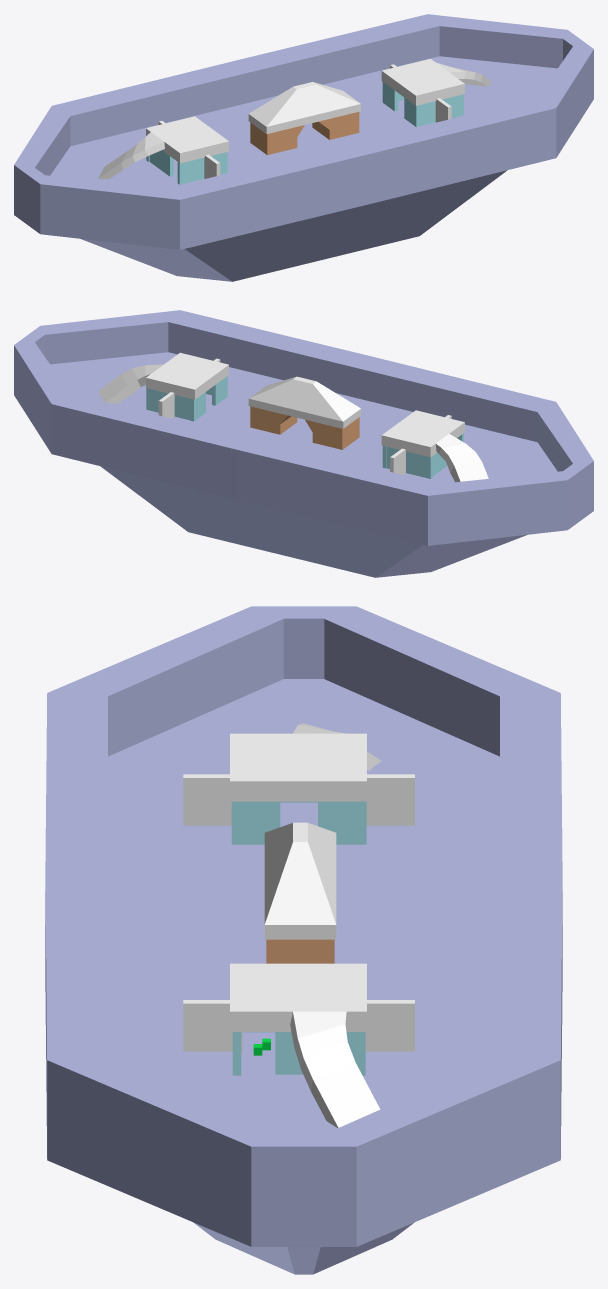
File: deah_match_test_model.glb
3 views of the same model, one above another, from view 1: azimuth 30°, elevation 25°; view 2: azimuth 150°, elevation 25°; view 3: azimuth 270°, elevation 25° (orthographic). The views are drawn at different scales.
Visible parts, largest first — view 1: body_ship, building.001, building.004, building.002, building.003, building; view 2: body_ship, building.001, building.004, building.002, building.003, building; view 3: body_ship, building.002, building.004, building.001, building.
Part boxes in pixels (x1=…): body_ship: x1=14, y1=14, x2=593, y2=281; building.001: x1=248, y1=82, x2=360, y2=155; building.004: x1=381, y1=59, x2=464, y2=127; building.002: x1=146, y1=116, x2=228, y2=184; building.003: x1=98, y1=132, x2=164, y2=178; building: x1=436, y1=62, x2=491, y2=86; body_ship: x1=14, y1=310, x2=593, y2=577; building.001: x1=248, y1=376, x2=360, y2=449; building.004: x1=146, y1=352, x2=228, y2=421; building.002: x1=381, y1=410, x2=464, y2=478; building.003: x1=436, y1=434, x2=488, y2=482; building: x1=98, y1=364, x2=163, y2=403; body_ship: x1=45, y1=606, x2=562, y2=1274; building.002: x1=183, y1=733, x2=414, y2=844; building.004: x1=183, y1=963, x2=414, y2=1075; building.001: x1=264, y1=822, x2=336, y2=963; building: x1=290, y1=1011, x2=380, y2=1127.
Size of the model in its own units: 305 by 83.05 by 123.
